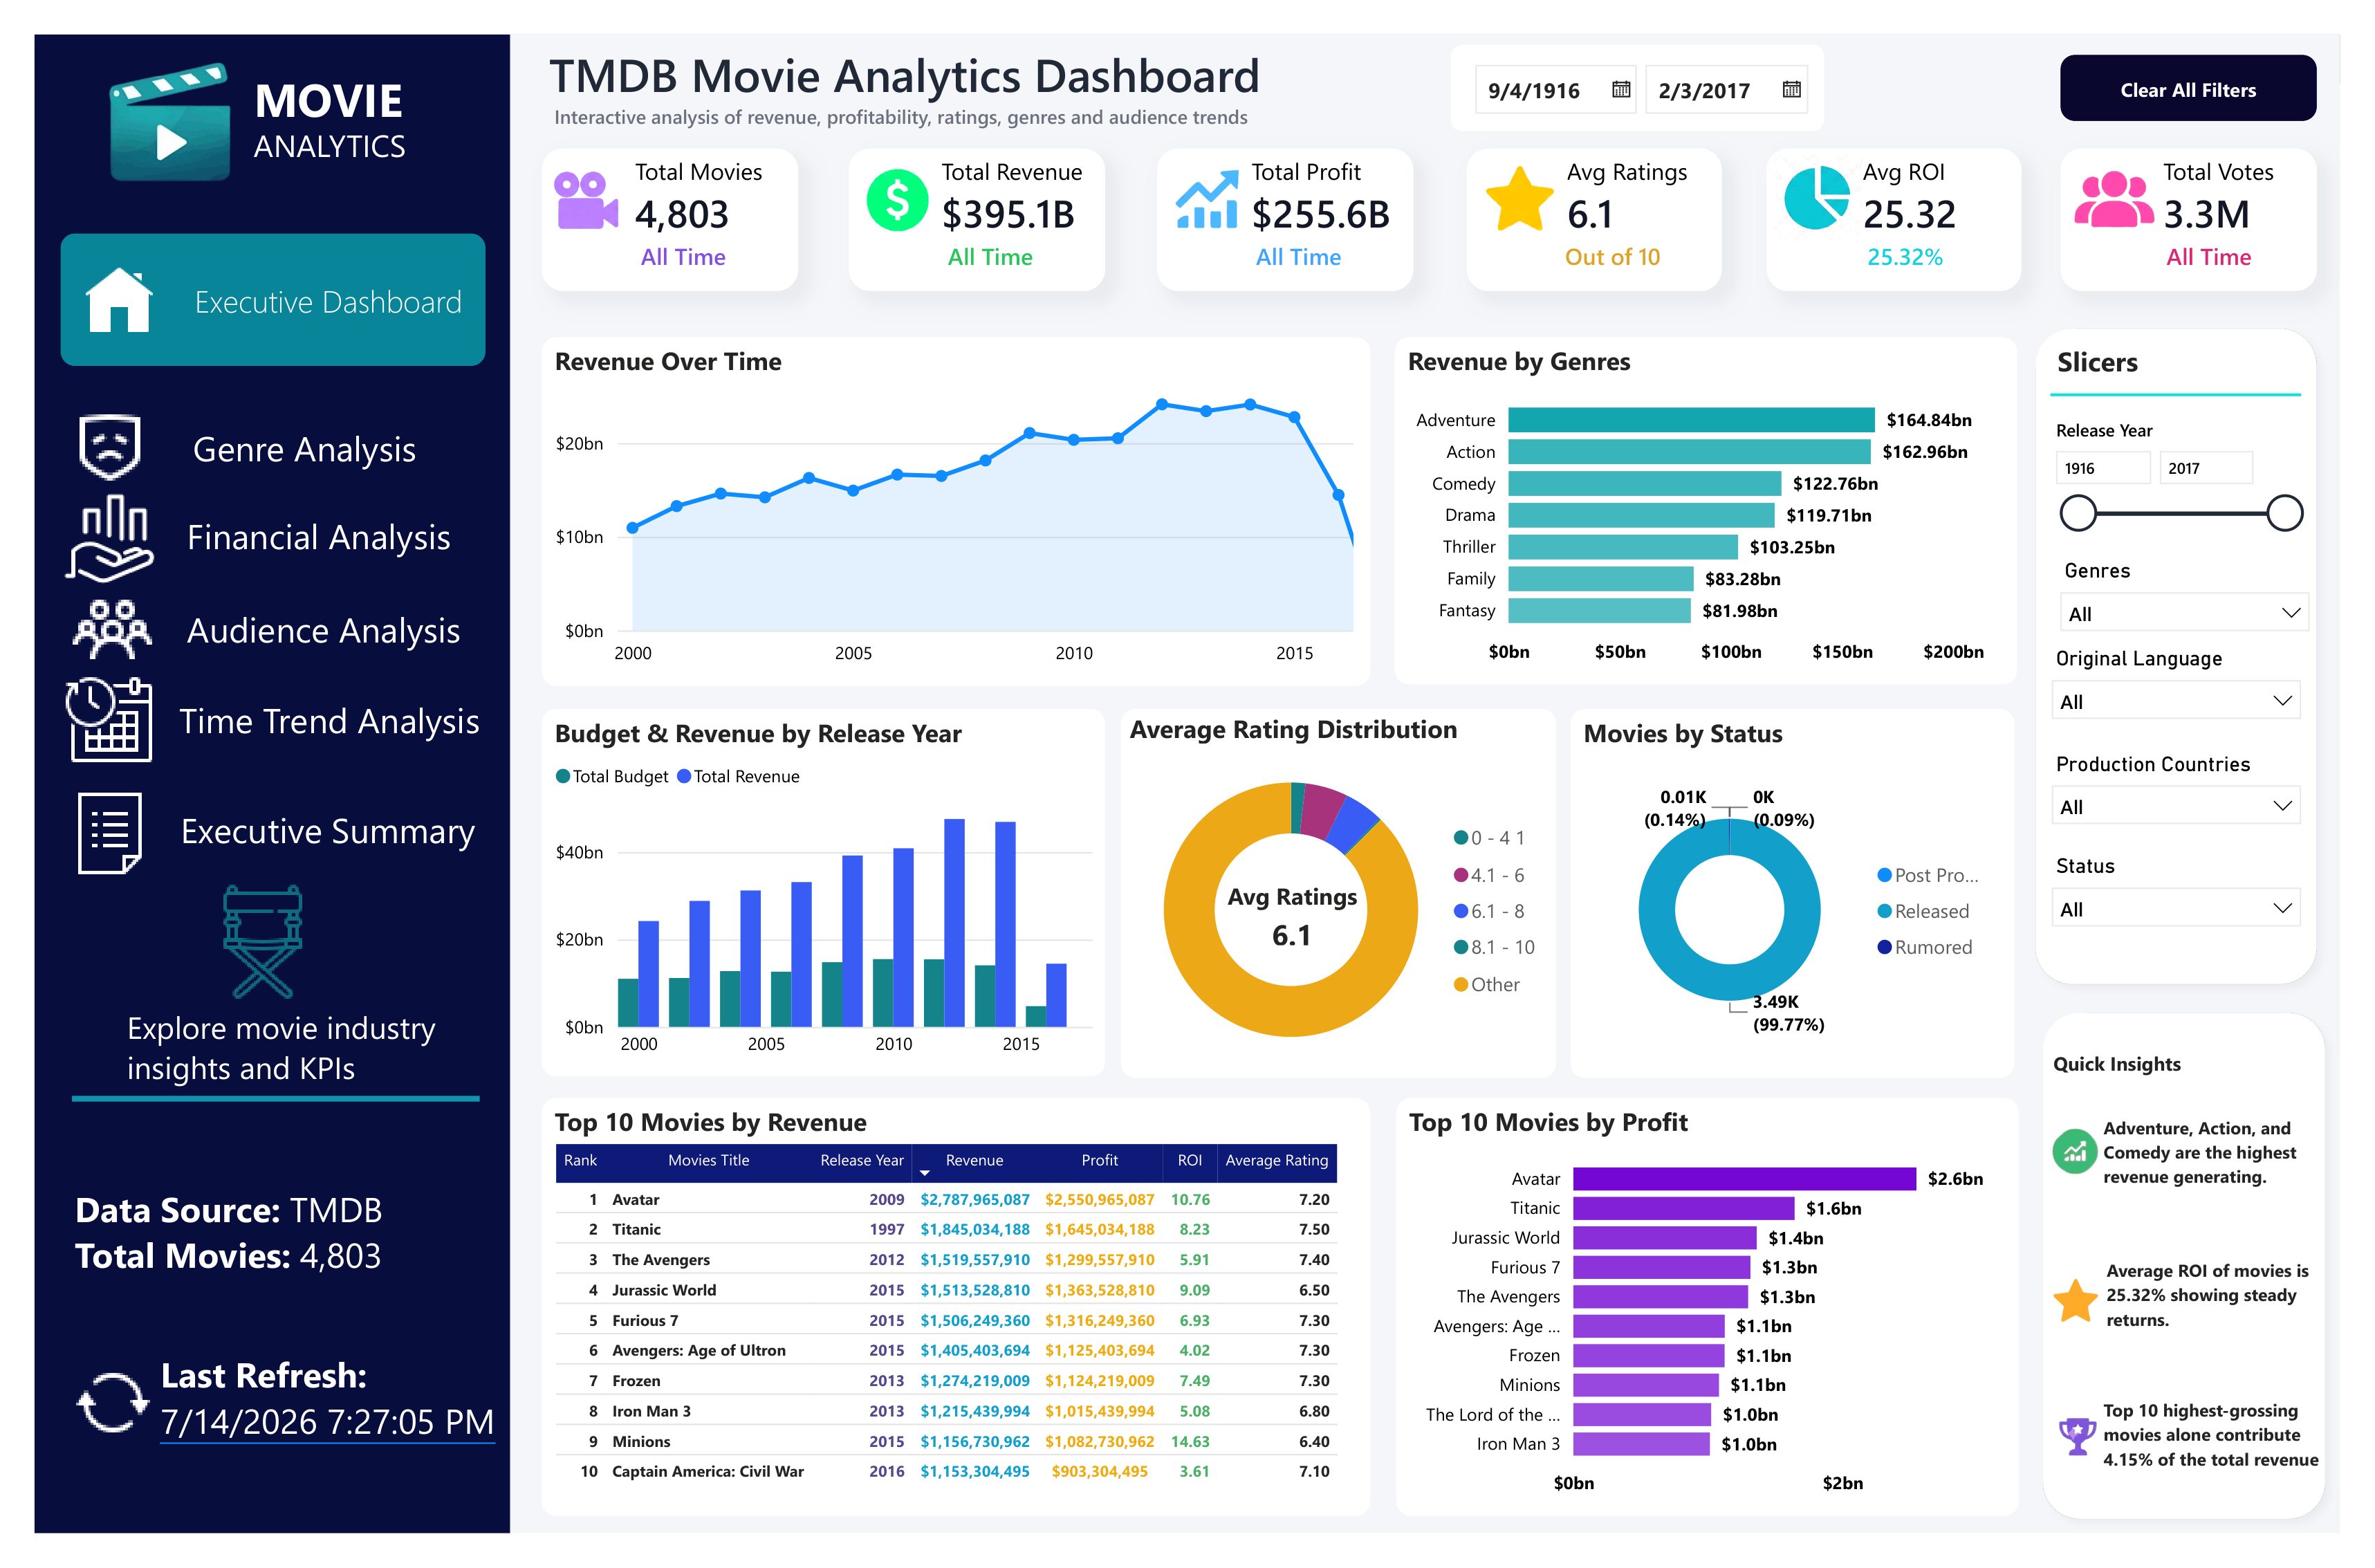

The page's visual inventory and layout, read from the dashboard file:
{"tool":"powerbi","page":{"name":"Executive Dashboard","canvas":[1600,1040],"ordinal":0},"visuals":[{"type":"cardVisual","fields":{"Data":["KPI Measures.Total Movies Card"]},"box":[352.4,79.4,177.8,98.4],"z":0},{"type":"cardVisual","fields":{"Data":["KPI Measures.Total Revenue Card"]},"box":[565.1,79.4,177.8,98.4],"z":1000},{"type":"cardVisual","fields":{"Data":["KPI Measures.Total Profit Card"]},"box":[779.4,79.4,177.8,98.4],"z":2000},{"type":"cardVisual","fields":{"Data":["KPI Measures.Avg Rating Card"]},"box":[993.7,79.4,177.8,98.4],"z":3000},{"type":"cardVisual","fields":{"Data":["KPI Measures.Avg ROI Card"]},"box":[1201.6,79.4,177.8,98.4],"z":4000},{"type":"cardVisual","fields":{"Data":["KPI Measures.Total Votes Card"]},"box":[1406.3,79.4,177.8,98.4],"z":5000},{"type":"textbox","box":[352.4,0,604.8,92.1],"z":6000},{"type":"shape","box":[1378.6,194.3,215.7,474.3],"z":7000},{"type":"textbox","box":[1398.6,208.6,110,35.7],"z":8000},{"type":"shape","box":[1398.6,244.3,174.3,11.4],"z":9000},{"type":"slicer","fields":{"Values":["Movies.Release Year"]},"box":[1390,261.4,192.9,84.3],"z":10000},{"type":"slicer","fields":{"Values":["Movies.Genres"]},"box":[1395.7,358.6,192.9,61.4],"z":11000},{"type":"slicer","fields":{"Values":["Movies.Original Language"]},"box":[1390,420,192.9,61.4],"z":12000},{"type":"slicer","fields":{"Values":["Movies.Production Countries"]},"box":[1390,492.9,192.9,61.4],"z":13000},{"type":"slicer","fields":{"Values":["Movies.Status"]},"box":[1390,564.3,192.9,62.9],"z":14000},{"type":"slicer","fields":{"Values":["Movies.Release Date"]},"box":[983.3,6.7,258.3,60],"z":15000},{"type":"actionButton","box":[1406,14,178,46],"z":16000},{"type":"lineChart","title":"Revenue Over Time","fields":{"Category":["Movies.Release Year"],"Y":["Sum(Movies.Revenue)"]},"box":[351.7,210,575,241.7],"z":17000},{"type":"barChart","title":"Revenue by Genres","fields":{"Category":["Movies_Genres.Genres"],"Y":["Sum(Movies_Genres.Revenue)"]},"box":[944.3,210,431.4,241.4],"z":18000},{"type":"clusteredColumnChart","title":"Budget & Revenue by Release Year","fields":{"Y":["Sum(Movies.Budget)","Sum(Movies.Revenue)"],"Category":["Movies.Release Year (bins)"]},"box":[351.7,468.3,391.7,255],"z":19000},{"type":"donutChart","title":"Average Rating Distribution","fields":{"Category":["Movies.Average Rating (groups)"],"Y":["Count(Movies.Movie ID)"]},"box":[754,468,302,256],"z":20000},{"type":"donutChart","title":"Movies by Status","fields":{"Category":["Movies.Status"],"Y":["Count(Movies.Movie ID)"]},"box":[1066,468,308,256],"z":21000},{"type":"tableEx","title":"Top 10 Movies by Revenue","fields":{"Values":["Movies.Movie Rank","Movies.Title","Sum(Movies.Release Year)","Sum(Movies.Revenue)","Sum(Movies.Profit)","Sum(Movies.ROI)","Sum(Movies.Average Rating)"]},"box":[351.7,738.3,575,290],"z":22000},{"type":"clusteredBarChart","title":"Top 10 Movies by Profit","fields":{"Category":["Movies.Title"],"Y":["Sum(Movies.Profit)"]},"box":[945,738.3,431.7,290],"z":23000},{"type":"shape","box":[1384.3,668.6,215.7,371.4],"z":24000},{"type":"textbox","box":[1395.7,700,177.1,38.6],"z":25000},{"type":"image","box":[1398.9,755.6,35.6,38.9],"z":26000},{"type":"image","box":[1398.6,858.6,35.7,40],"z":27000},{"type":"image","box":[1398.6,940,38.6,62.9],"z":28000},{"type":"textbox","box":[1432.9,842.9,151.4,70],"z":29000},{"type":"textbox","box":[1431.2,743.8,157.5,77.5],"z":30000},{"type":"textbox","box":[1431.4,940,162.9,75.7],"z":31000},{"type":"shape","box":[0,0,330,1040],"z":32000},{"type":"image","box":[41.7,13.3,105,93.3],"z":33000},{"type":"textbox","box":[146.7,16.7,131.7,60],"z":34000},{"type":"textbox","box":[146.7,56.7,151.7,48.3],"z":35000},{"type":"actionButton","box":[17.5,137.5,295,92.5],"z":36000},{"type":"actionButton","box":[17.5,252.5,271,65],"z":37000},{"type":"actionButton","box":[22.5,317.5,290,58.3],"z":38000},{"type":"actionButton","box":[17.5,381.7,295,60],"z":39000},{"type":"actionButton","box":[13.3,441.7,300,65],"z":40000},{"type":"actionButton","box":[13.3,506.7,300,88.3],"z":41000},{"type":"textbox","box":[58.6,668.6,241.4,85.7],"z":42000},{"type":"shape","box":[25.7,720,282.9,37.1],"z":43000},{"type":"textbox","box":[22.9,792.9,307.1,210],"z":44000},{"type":"image","box":[10,255.7,84.3,61.4],"z":45000},{"type":"image","box":[24.3,161.4,68.6,47.1],"z":46000},{"type":"image","box":[10,318.6,84.3,62.9],"z":47000},{"type":"image","box":[11.4,381.4,84.3,61.4],"z":48000},{"type":"image","box":[10,445.7,84.3,61.4],"z":49000},{"type":"image","box":[10,524.3,84,61],"z":50000},{"type":"image","box":[102.9,590,110,78.6],"z":51000},{"type":"image","box":[28.6,920,51.4,58.6],"z":52000},{"type":"cardVisual","fields":{"Data":["KPI Measures.Avg Ratings"]},"box":[787.5,573.8,170,75],"z":53000}]}

Visuals, with their boxes on the page's 1600x1040 design canvas (x1, y1, x2, y2). These are canvas units, not pixel positions in the 2375x1568 screenshot, which may show the page scaled, cropped or inside an application window:
cardVisual - KPI Measures.Total Movies Card: 352 79 530 178
cardVisual - KPI Measures.Total Revenue Card: 565 79 743 178
cardVisual - KPI Measures.Total Profit Card: 779 79 957 178
cardVisual - KPI Measures.Avg Rating Card: 994 79 1172 178
cardVisual - KPI Measures.Avg ROI Card: 1202 79 1379 178
cardVisual - KPI Measures.Total Votes Card: 1406 79 1584 178
textbox: 352 0 957 92
shape: 1379 194 1594 669
textbox: 1399 209 1509 244
shape: 1399 244 1573 256
slicer - Movies.Release Year: 1390 261 1583 346
slicer - Movies.Genres: 1396 359 1589 420
slicer - Movies.Original Language: 1390 420 1583 481
slicer - Movies.Production Countries: 1390 493 1583 554
slicer - Movies.Status: 1390 564 1583 627
slicer - Movies.Release Date: 983 7 1242 67
actionButton: 1406 14 1584 60
"Revenue Over Time" lineChart: 352 210 927 452
"Revenue by Genres" barChart: 944 210 1376 451
"Budget & Revenue by Release Year" clusteredColumnChart: 352 468 743 723
"Average Rating Distribution" donutChart: 754 468 1056 724
"Movies by Status" donutChart: 1066 468 1374 724
"Top 10 Movies by Revenue" tableEx: 352 738 927 1028
"Top 10 Movies by Profit" clusteredBarChart: 945 738 1377 1028
shape: 1384 669 1600 1040
textbox: 1396 700 1573 739
image: 1399 756 1434 794
image: 1399 859 1434 899
image: 1399 940 1437 1003
textbox: 1433 843 1584 913
textbox: 1431 744 1589 821
textbox: 1431 940 1594 1016
shape: 0 0 330 1040
image: 42 13 147 107
textbox: 147 17 278 77
textbox: 147 57 298 105
actionButton: 18 138 312 230
actionButton: 18 252 288 318
actionButton: 22 318 312 376
actionButton: 18 382 312 442
actionButton: 13 442 313 507
actionButton: 13 507 313 595
textbox: 59 669 300 754
shape: 26 720 309 757
textbox: 23 793 330 1003
image: 10 256 94 317
image: 24 161 93 208
image: 10 319 94 382
image: 11 381 96 443
image: 10 446 94 507
image: 10 524 94 585
image: 103 590 213 669
image: 29 920 80 979
cardVisual - KPI Measures.Avg Ratings: 788 574 958 649
